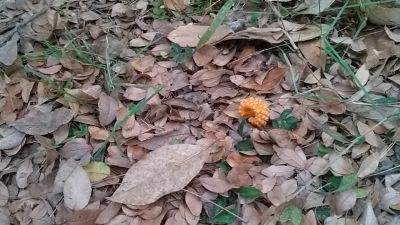eggs: (237, 97, 271, 128)
